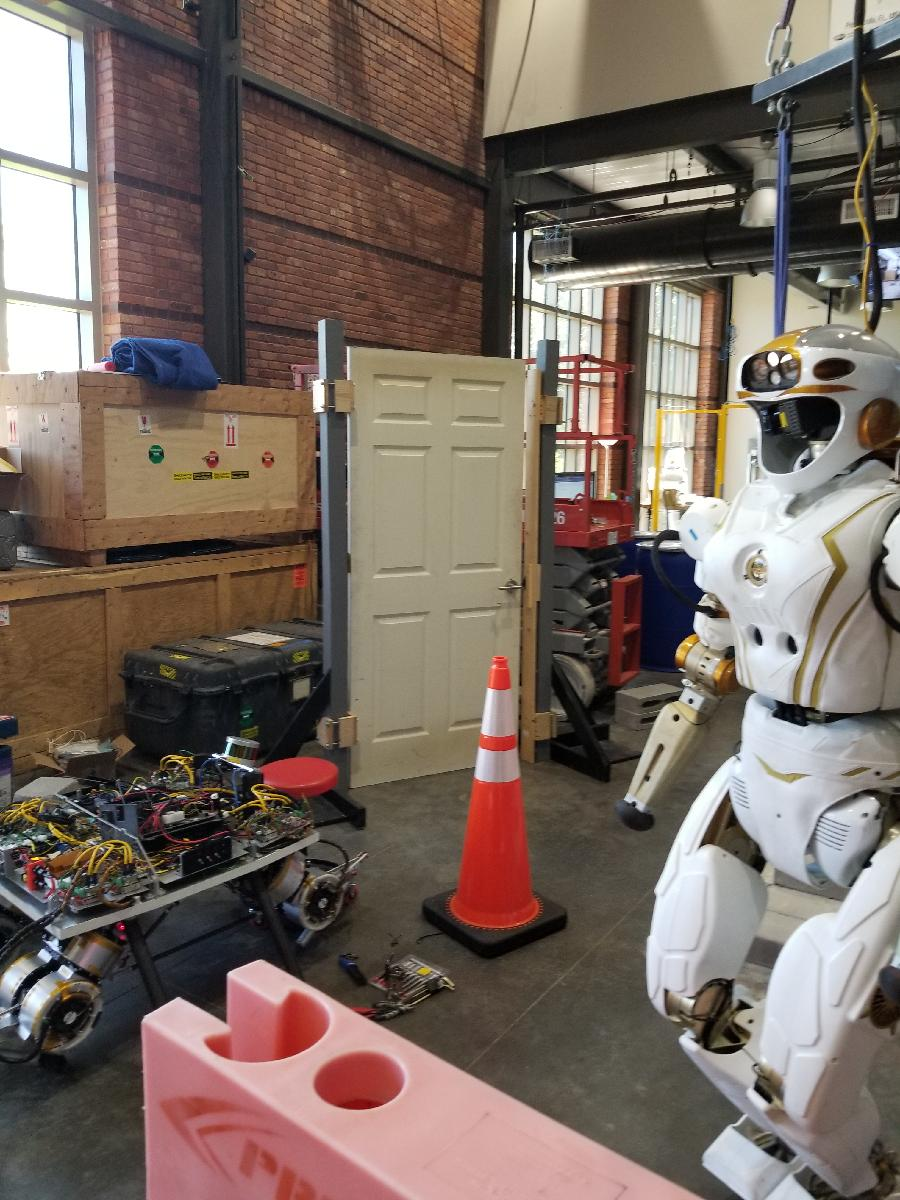door: (342, 342, 530, 807)
doorHandle: (494, 575, 525, 603)
